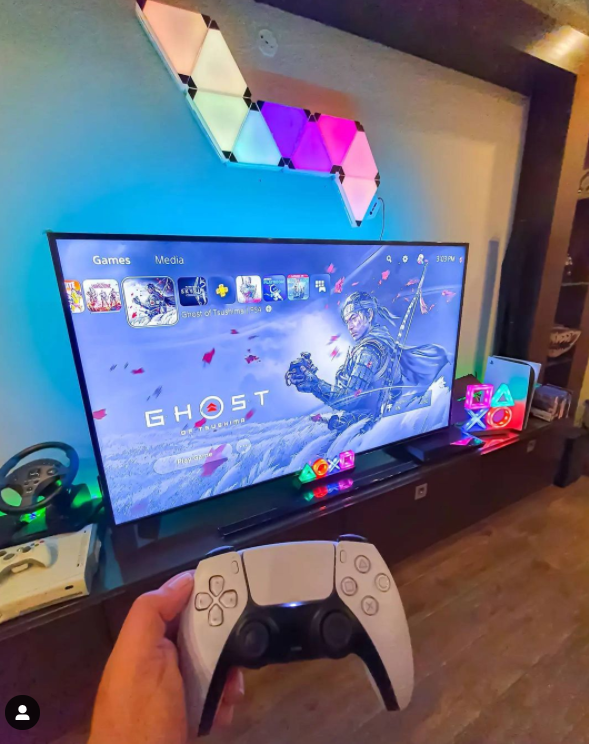gamingconsole: (176, 534, 416, 719)
